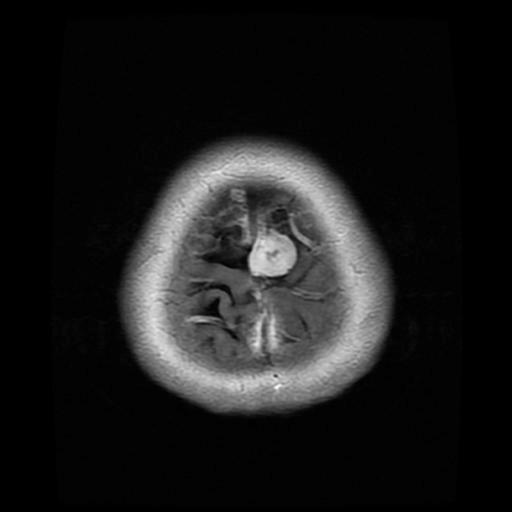Tumour-Pituitary: (234, 227, 322, 286)
